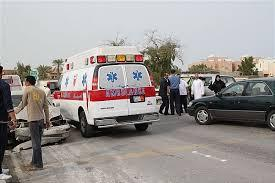ambulance_off: (52, 45, 161, 138)
